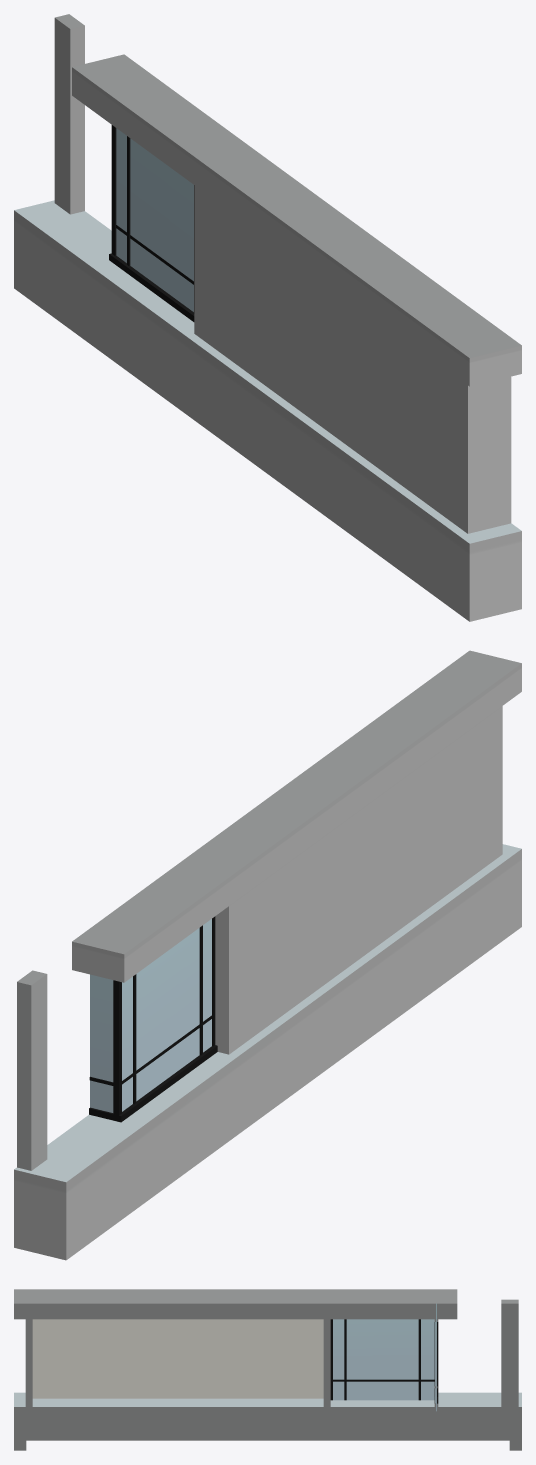
The model's file is Shop_wall_left_type2.FBX.
3 views of the same model, one above another, from view 1: azimuth 30°, elevation 25°; view 2: azimuth 150°, elevation 25°; view 3: azimuth 270°, elevation 25° (orthographic). The views are drawn at different scales.
Parts seen in each view (by area): view 1: Shop_wall_left_type2_002; view 2: Shop_wall_left_type2_002; view 3: Shop_wall_left_type2_002.
Part boxes in pixels (x1=…): Shop_wall_left_type2_002: x1=14, y1=14, x2=521, y2=621; Shop_wall_left_type2_002: x1=14, y1=650, x2=521, y2=1260; Shop_wall_left_type2_002: x1=14, y1=1289, x2=521, y2=1450.
Size of the model in its own units: 332 by 1591 by 4983.
Materials: 1 (1 with a texture image).
